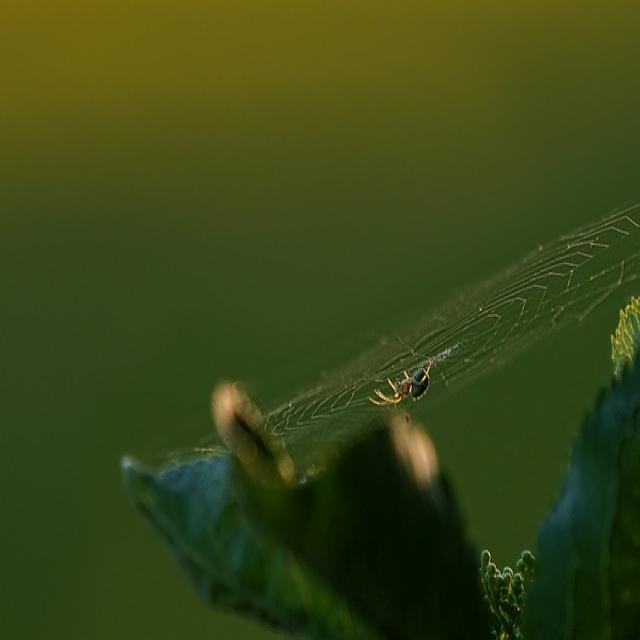spyder: (369, 362, 432, 406)
